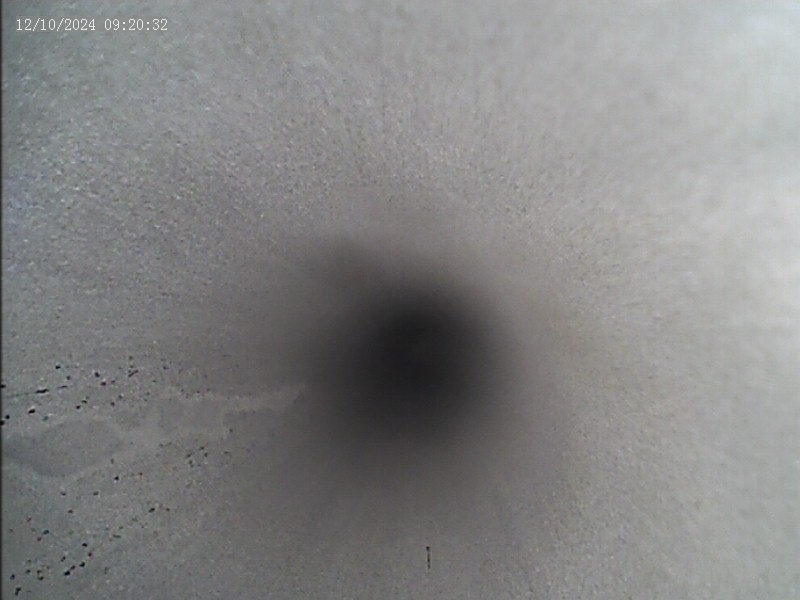defective_area: (1, 352, 274, 598)
